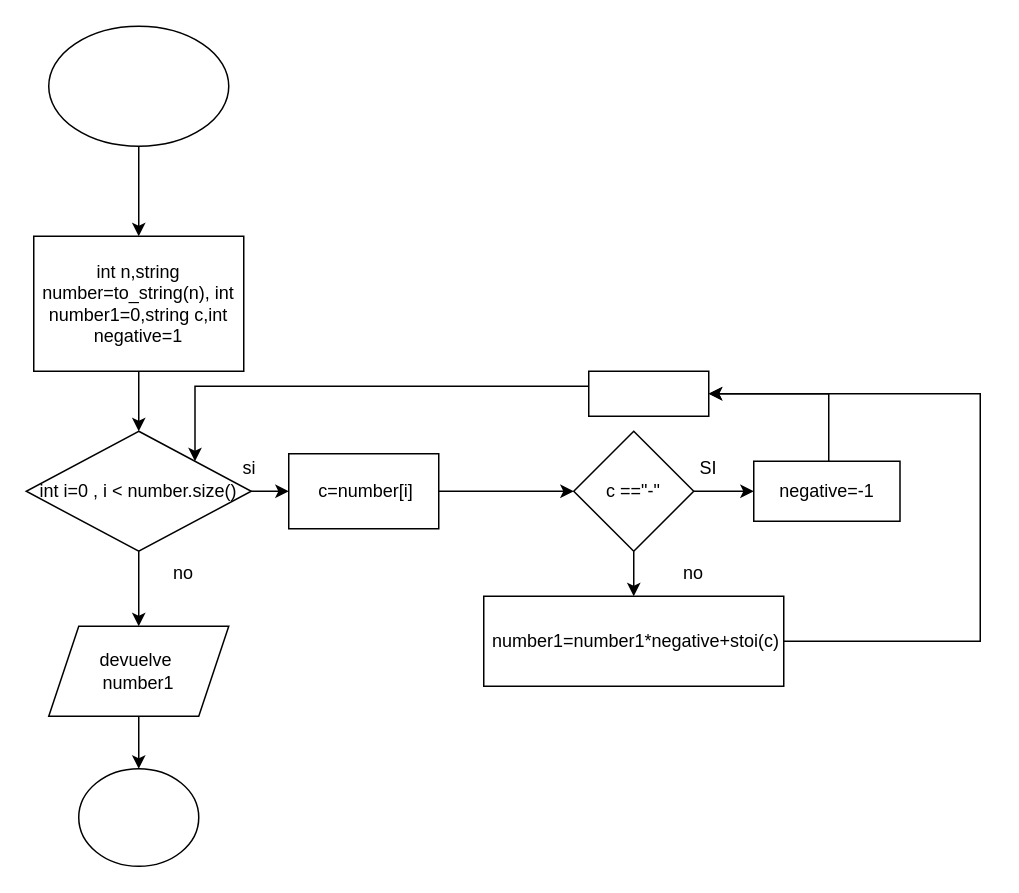
The diagram is 1019 pixels wide and 893 high, and some of its shapes have lost their labels. The shapes that lost their labels are listed below. From the top down, each one's centre as x and y in pixels, then its label:
point 138,85: INICIO 6
point 648,393: I++
point 138,816: FIN
